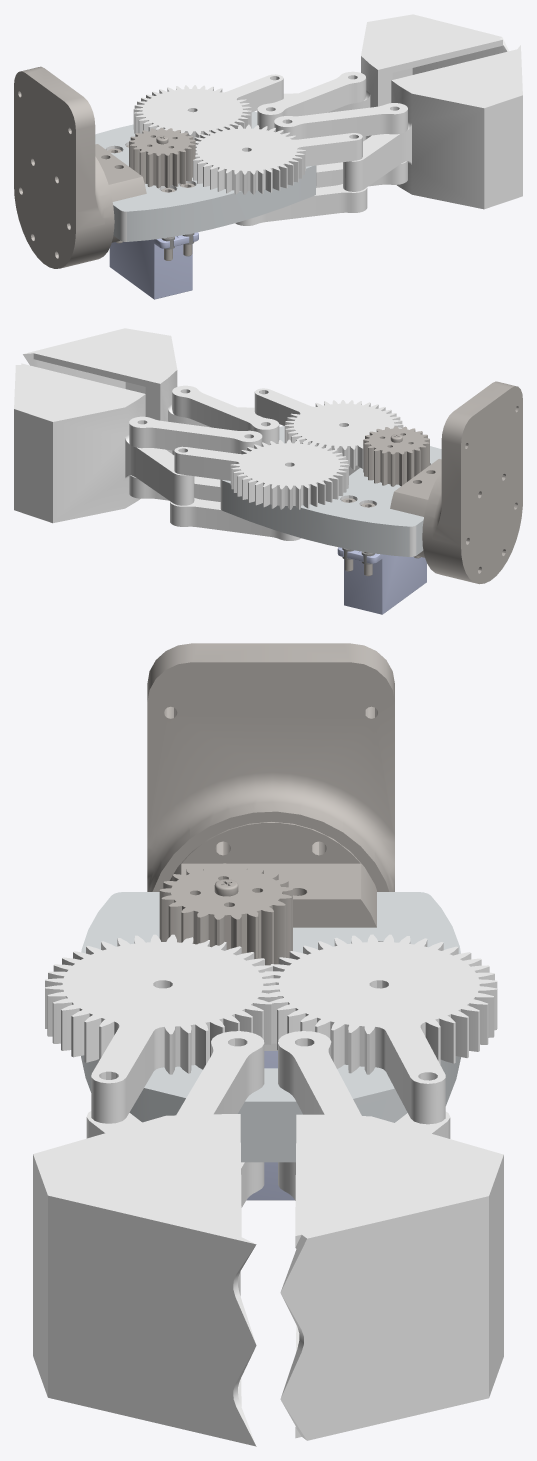
The model's file is full gripper with bucket finger.glb.
3 renders of one model, top to bottom at view 1: azimuth 30°, elevation 25°; view 2: azimuth 150°, elevation 25°; view 3: azimuth 270°, elevation 25°, orthographic. The views are drawn at different scales.
Visible parts, largest first — view 1: body108180, body95773, body96587, body88927, body107401, body92350, body101476, body109011, body86949, body110286, body109521, body96185 (+1 smaller); view 2: body107401, body95773, body96587, body92350, body108180, body88927, body101476, body110286, body86949, body109011, body110031, body96185 (+1 smaller); view 3: body108180, body107401, body95773, body88927, body92350, body96587, body96185, body86949, body109011, body110286, body101476.
Part boxes in pixels (bbox=[...]): body108180: bbox=[343, 45, 522, 209]; body95773: bbox=[14, 66, 114, 268]; body96587: bbox=[95, 111, 316, 241]; body88927: bbox=[193, 124, 362, 194]; body107401: bbox=[283, 14, 508, 138]; body92350: bbox=[133, 74, 283, 139]; body101476: bbox=[109, 232, 198, 299]; body109011: bbox=[274, 103, 407, 139]; body86949: bbox=[129, 127, 195, 188]; body110286: bbox=[257, 71, 366, 130]; body109521: bbox=[235, 184, 367, 225]; body96185: bbox=[95, 144, 146, 201]; body107401: bbox=[14, 363, 194, 523]; body95773: bbox=[422, 381, 522, 584]; body96587: bbox=[220, 426, 441, 556]; body92350: bbox=[174, 439, 348, 509]; body108180: bbox=[23, 328, 262, 453]; body88927: bbox=[254, 388, 403, 469]; body101476: bbox=[337, 547, 426, 614]; body110286: bbox=[129, 416, 262, 453]; body86949: bbox=[363, 426, 429, 486]; body109011: bbox=[172, 385, 279, 445]; body110031: bbox=[170, 498, 300, 540]; body96185: bbox=[390, 459, 441, 516]; body108180: bbox=[33, 1111, 256, 1446]; body107401: bbox=[280, 1111, 503, 1440]; body95773: bbox=[147, 643, 394, 891]; body88927: bbox=[45, 934, 280, 1123]; body92350: bbox=[262, 934, 497, 1124]; body96587: bbox=[81, 892, 460, 1162]; body96185: bbox=[169, 822, 376, 927]; body86949: bbox=[159, 863, 292, 965]; body109011: bbox=[176, 1031, 264, 1115]; body110286: bbox=[278, 1031, 361, 1115]; body101476: bbox=[246, 1051, 294, 1200].
Size of the model in its own units: 0.2447 by 0.1075 by 0.1055.
